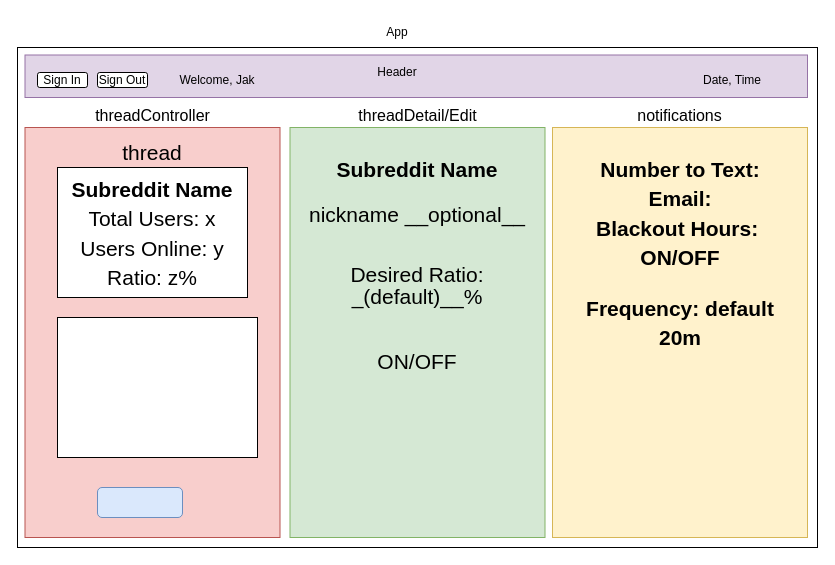
The diagram is 835 pixels wide and 565 high, and some of its shapes have lost their labels. The shapes that lost their labels are listed below. From the top down, each one's centre as x and y in pixels, then its label:
At pixel 157 387: "Subreddit Name Total Users: 23,558 Users Online: 5 Ratio: 10%".
At pixel 139 502: "Refresh".
